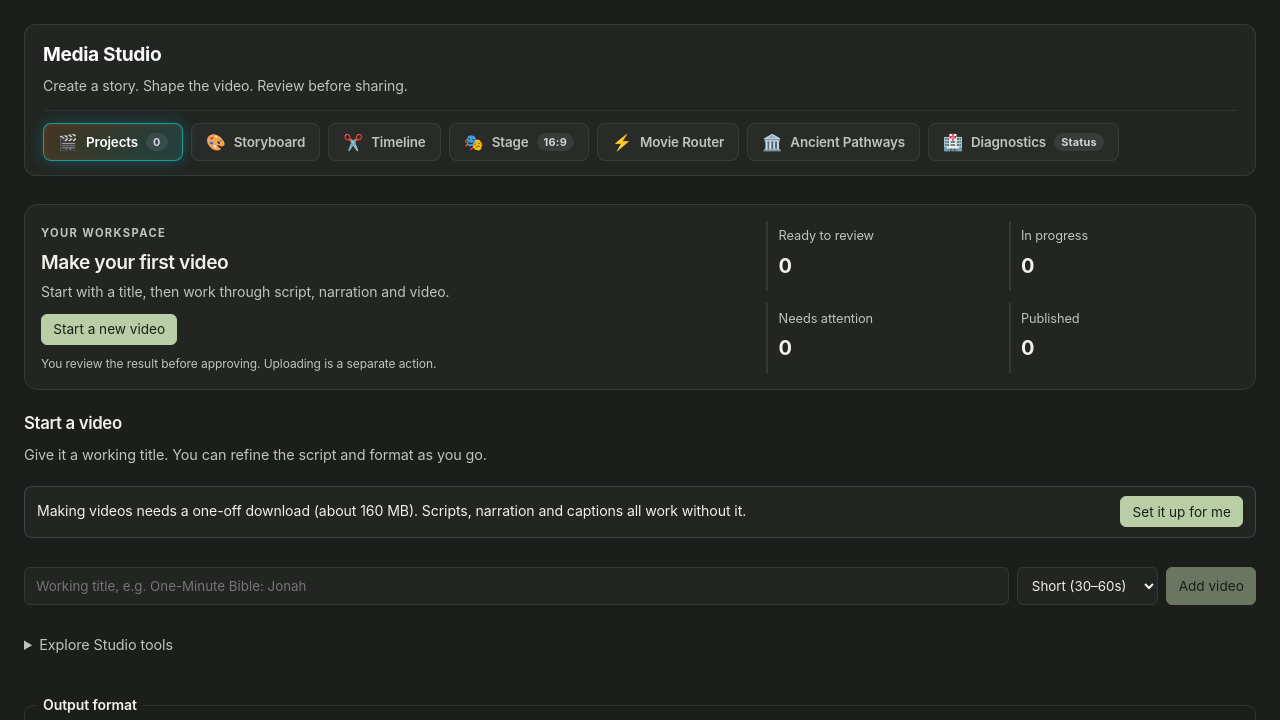
Test: a failed setup shows the reason instead of disappearing
Step 1. Click the button "Set it up for me" → click(1182, 512), box 1120,496 -> 1243,527
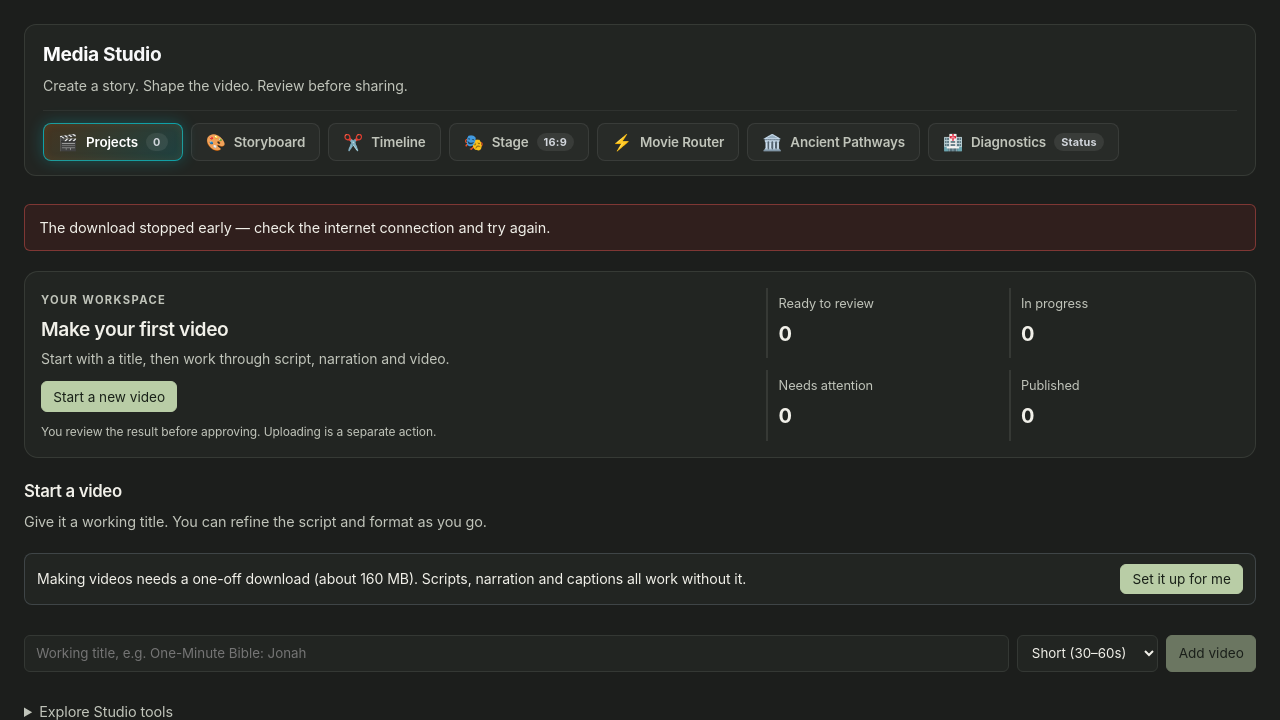
Result: the text "The download stopped early — check the internet connection and try again." is shown at 24,204 -> 1256,251
